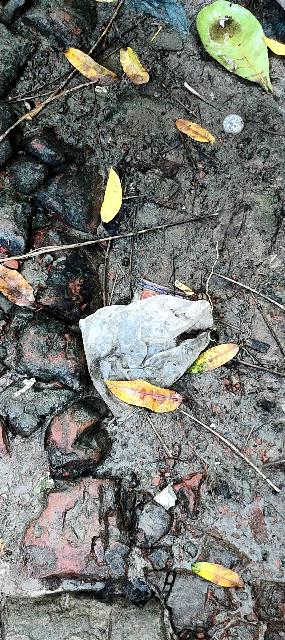polythene: (60, 259, 254, 433)
